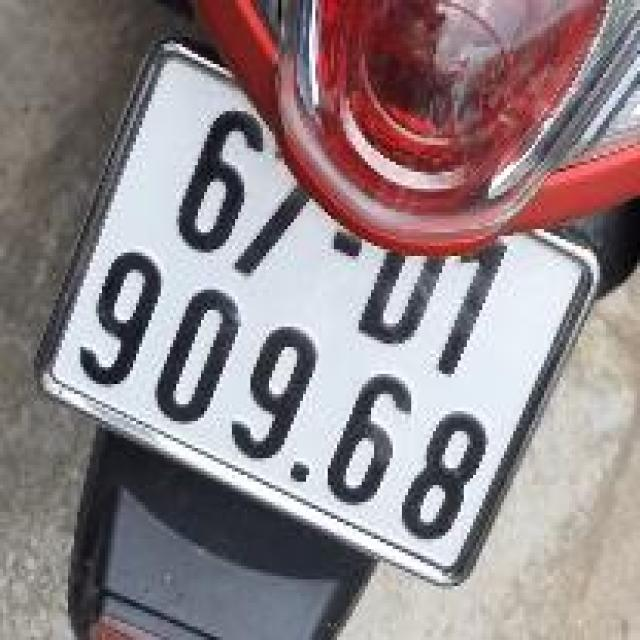0: (126, 265, 267, 457)
1: (408, 224, 527, 400)
6: (153, 83, 287, 278), (305, 350, 431, 534)
7: (220, 115, 363, 295)
8: (375, 389, 519, 576)
9: (208, 301, 341, 486), (61, 225, 181, 406)
D: (344, 186, 474, 368)
